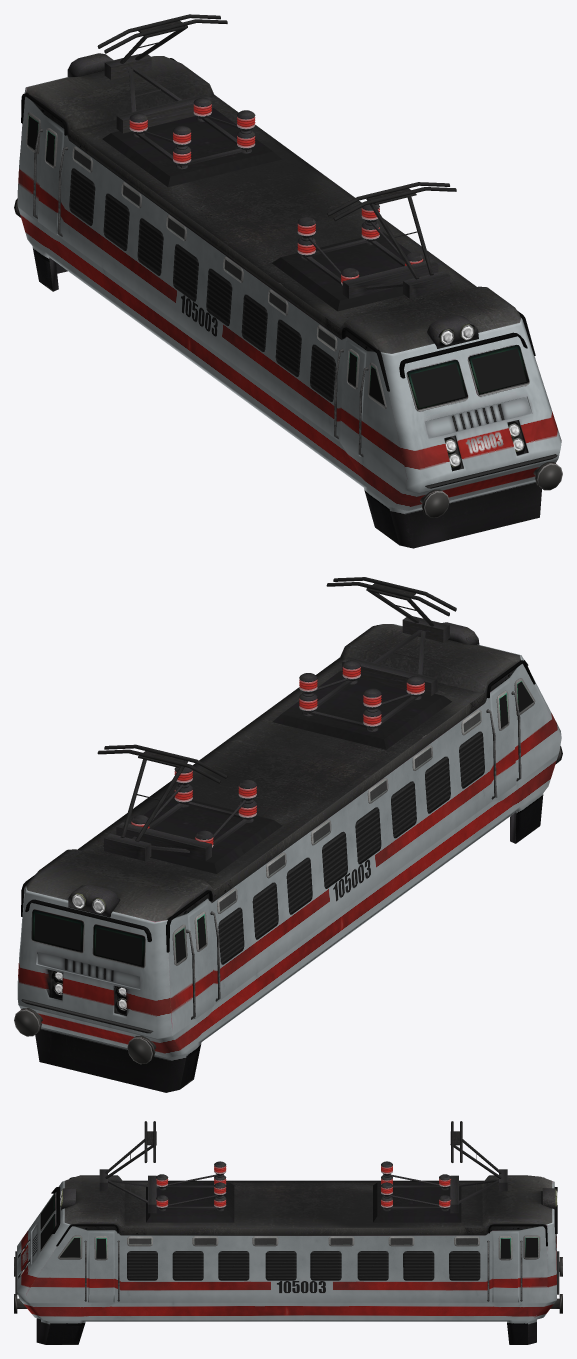
The model's file is Train_model_2.fbx.
3 views of the same model, one above another, from view 1: azimuth 30°, elevation 25°; view 2: azimuth 150°, elevation 25°; view 3: azimuth 270°, elevation 25° (orthographic). The views are drawn at different scales.
Parts seen in each view (by area): view 1: polySurface7; view 2: polySurface7; view 3: polySurface7.
Part boxes in pixels (bbox=[...]): polySurface7: bbox=[14, 14, 562, 548]; polySurface7: bbox=[14, 577, 562, 1092]; polySurface7: bbox=[14, 1121, 562, 1344].
Bounding box in the file's own units: 12.75 × 21.02 × 55.78.
